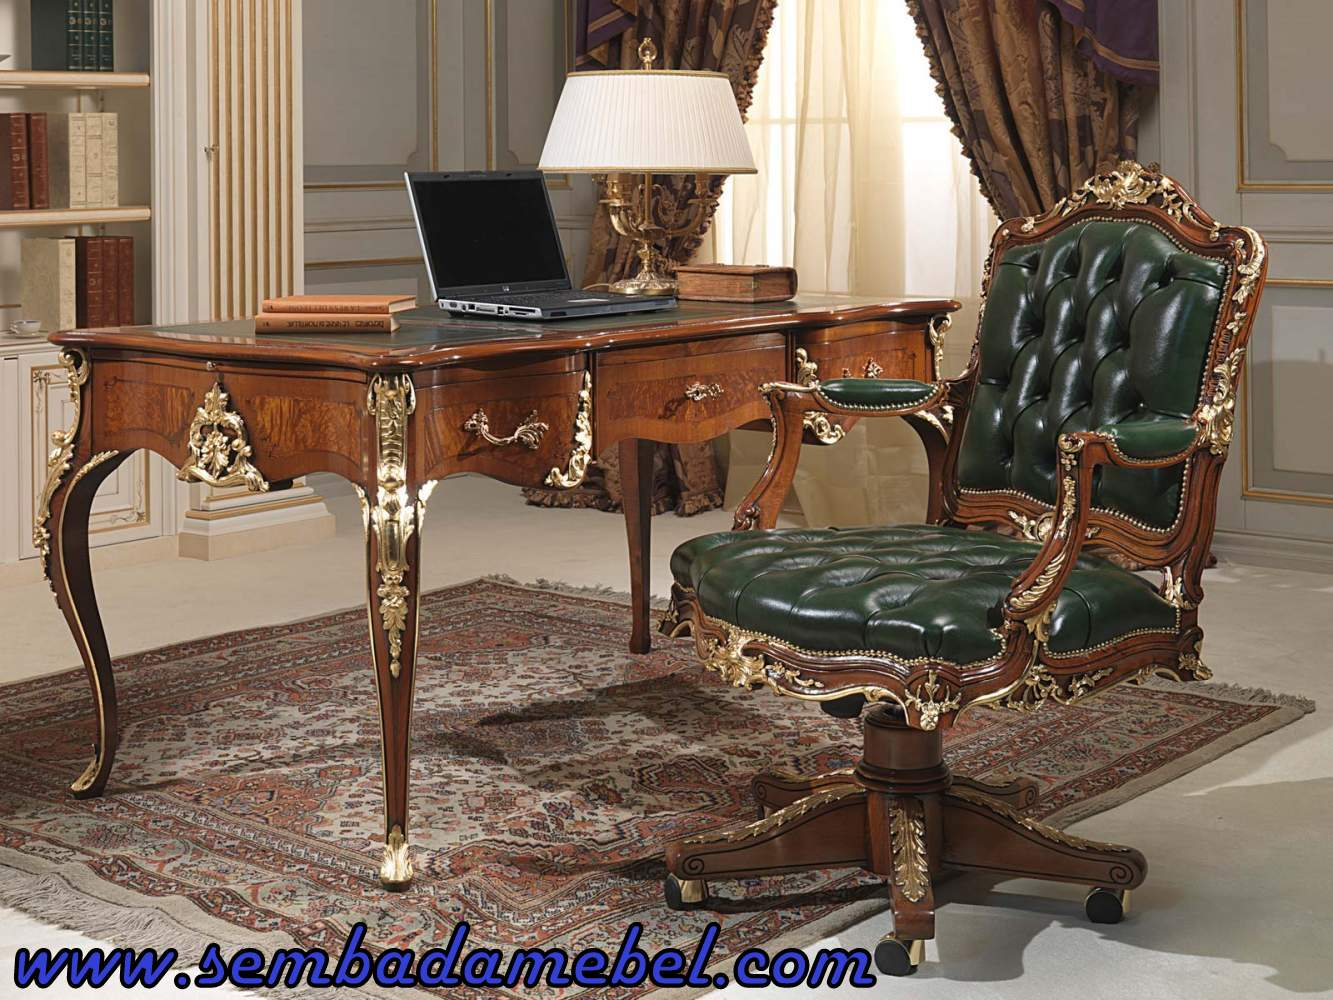Carving Chair: (727, 147, 1255, 1000)
Carving Table: (30, 264, 943, 798)
